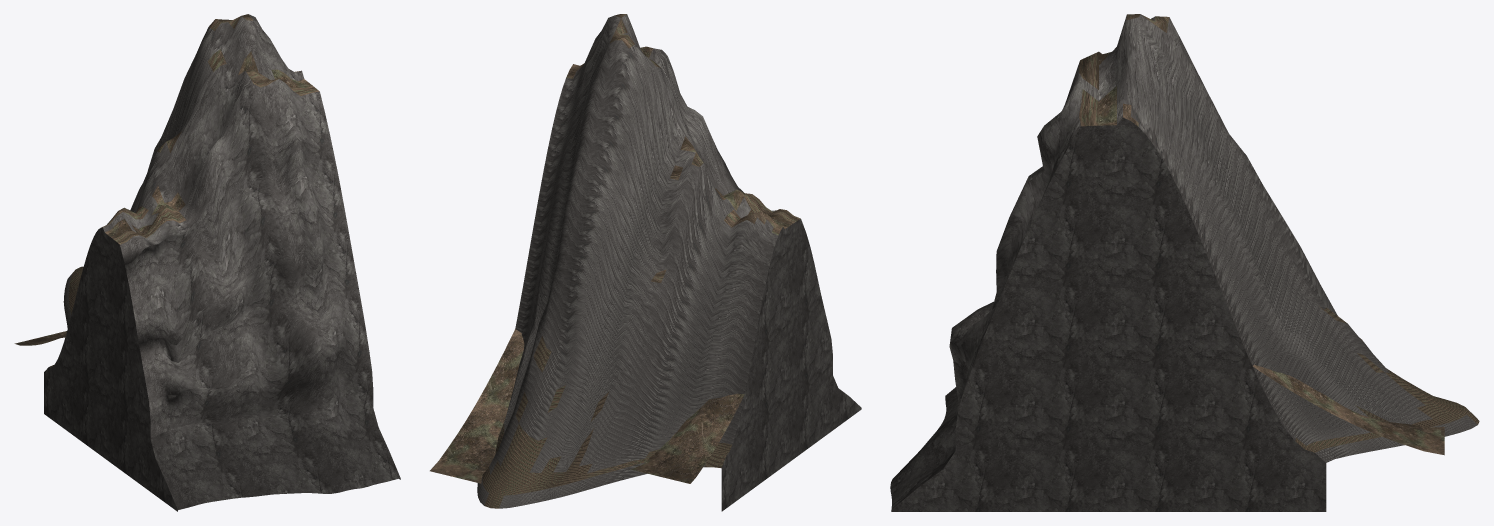
Rendered from seacliff_step_h5h8_v5_autumn.glb.
The picture shows the model from 3 angles, left to right: view 1: azimuth 30°, elevation 25°; view 2: azimuth 150°, elevation 25°; view 3: azimuth 270°, elevation 25°; orthographic projection. The views are drawn at different scales.
Parts seen in each view (by area): view 1: seacliff_step_h5h8; view 2: seacliff_step_h5h8; view 3: seacliff_step_h5h8.
Boxes of the visible parts, x1=… form: seacliff_step_h5h8: x1=14, y1=14, x2=400, y2=511; seacliff_step_h5h8: x1=430, y1=14, x2=861, y2=511; seacliff_step_h5h8: x1=890, y1=14, x2=1479, y2=511.
Size of the model in its own units: 6 by 11.48 by 13.09.
Materials: 2 (2 with a texture image).
